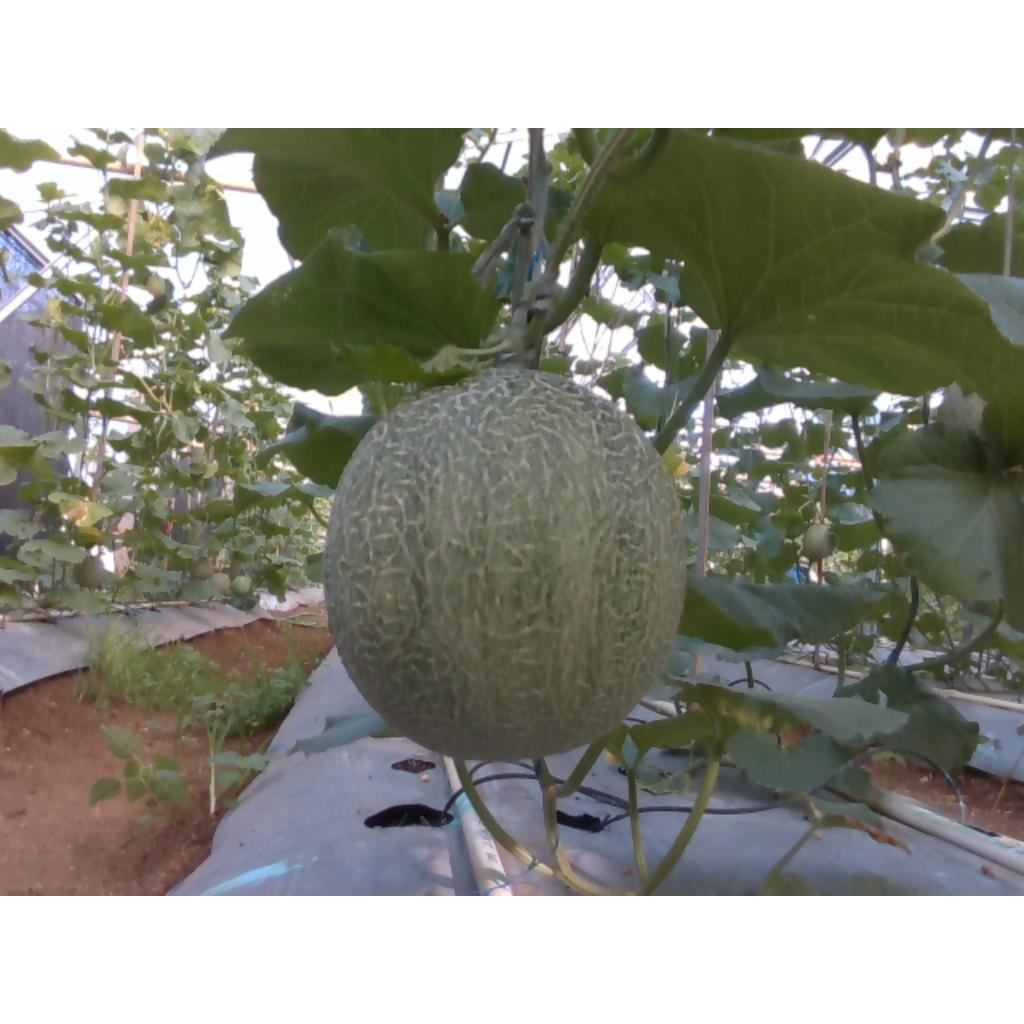melon: (326, 370, 686, 761)
